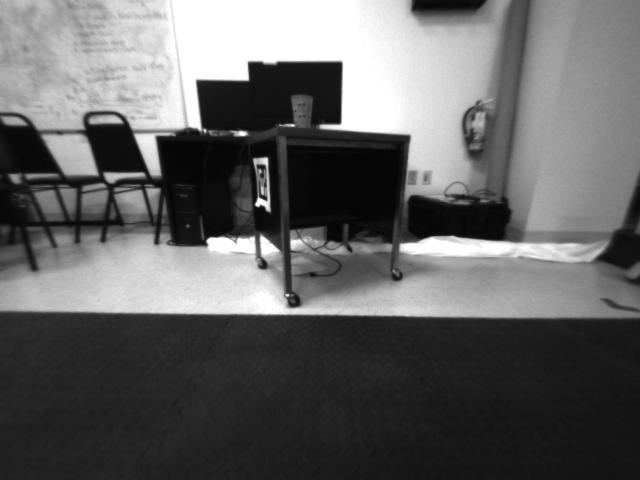coffee_cup: (287, 94, 315, 129)
